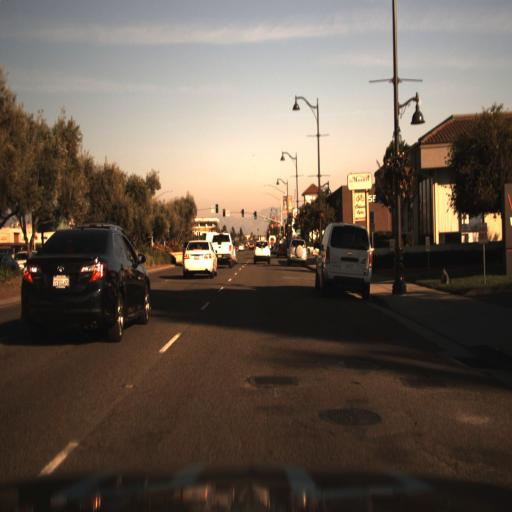car: (21, 225, 155, 344), (315, 218, 372, 293), (183, 238, 219, 276), (285, 231, 307, 266), (212, 232, 234, 266), (286, 236, 308, 264), (253, 238, 271, 266)
